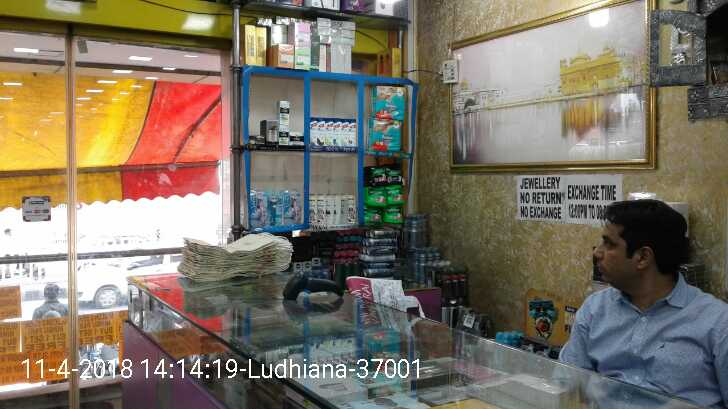venus: (266, 191, 285, 227), (285, 190, 301, 227), (250, 191, 266, 228)
